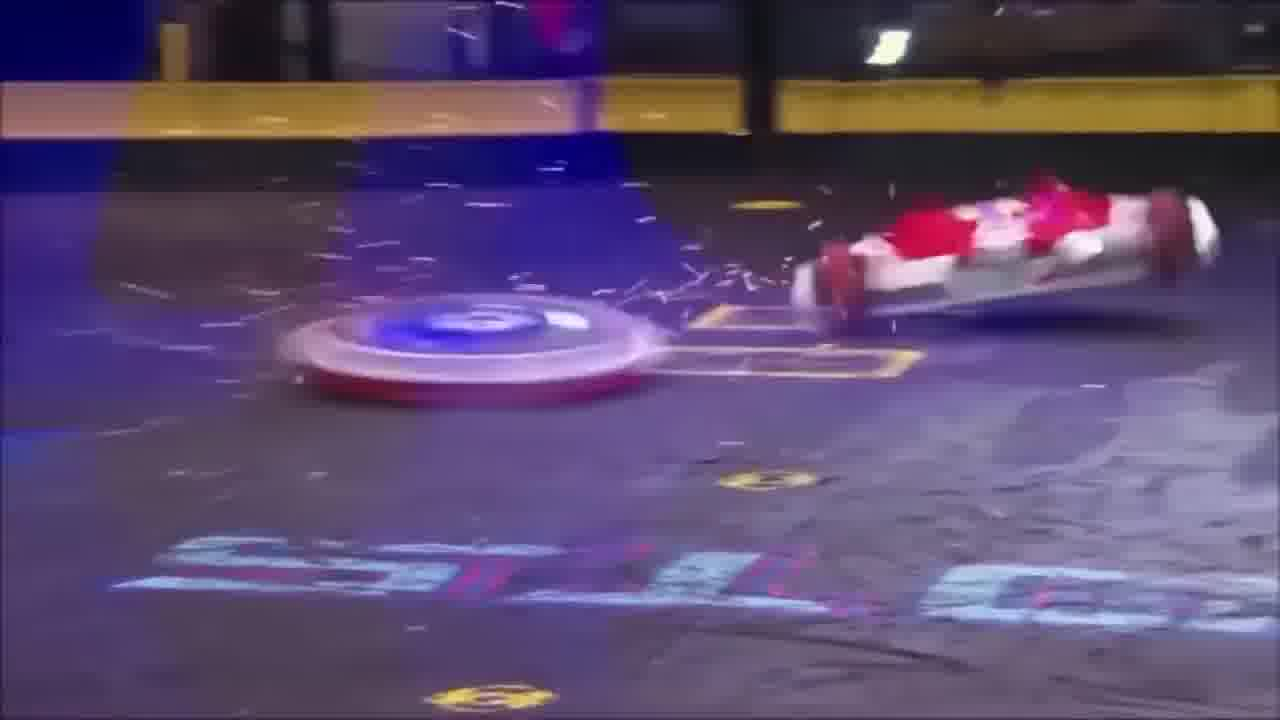combatbot: (795, 168, 1221, 334), (279, 288, 667, 413)
